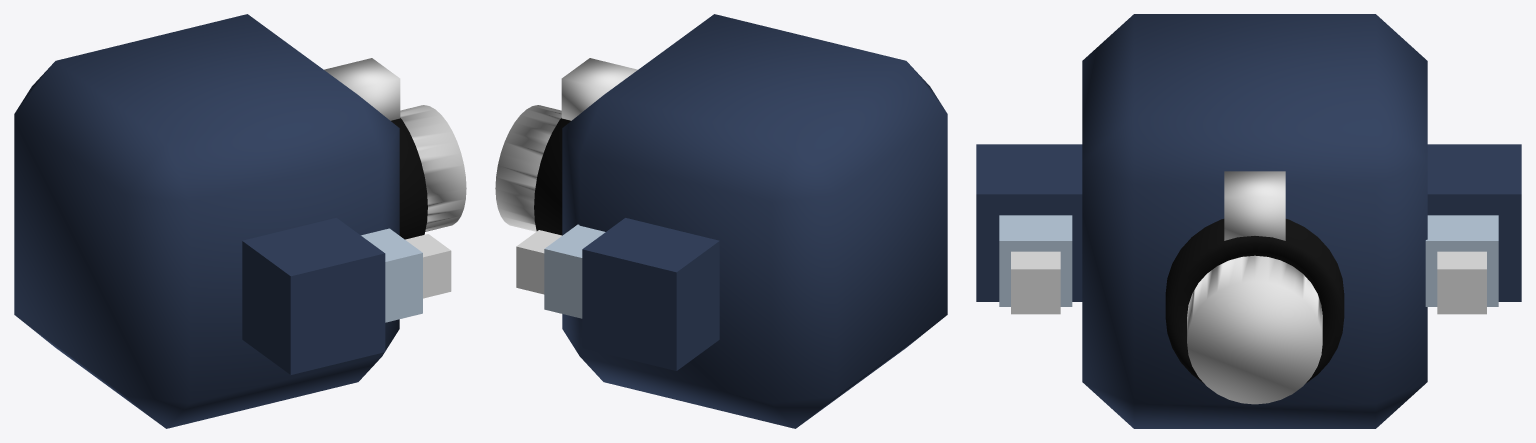
File: Enemy_3.fbx
3 views of the same model, side by side, from view 1: azimuth 30°, elevation 25°; view 2: azimuth 150°, elevation 25°; view 3: azimuth 270°, elevation 25° (orthographic). The views are drawn at different scales.
Visible parts, largest first — view 1: Enemy_3; view 2: Enemy_3; view 3: Enemy_3.
Part boxes in pixels (box(x1,y1,x2,y2)): Enemy_3: box(14, 14, 466, 428); Enemy_3: box(495, 14, 947, 428); Enemy_3: box(976, 14, 1521, 428).
Size of the model in its own units: 175 by 132 by 208.
